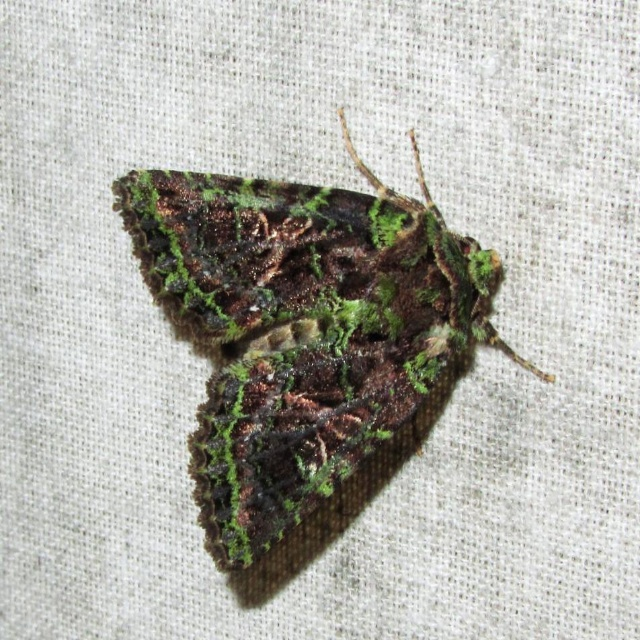Moths and butterflies: (110, 105, 558, 577)
